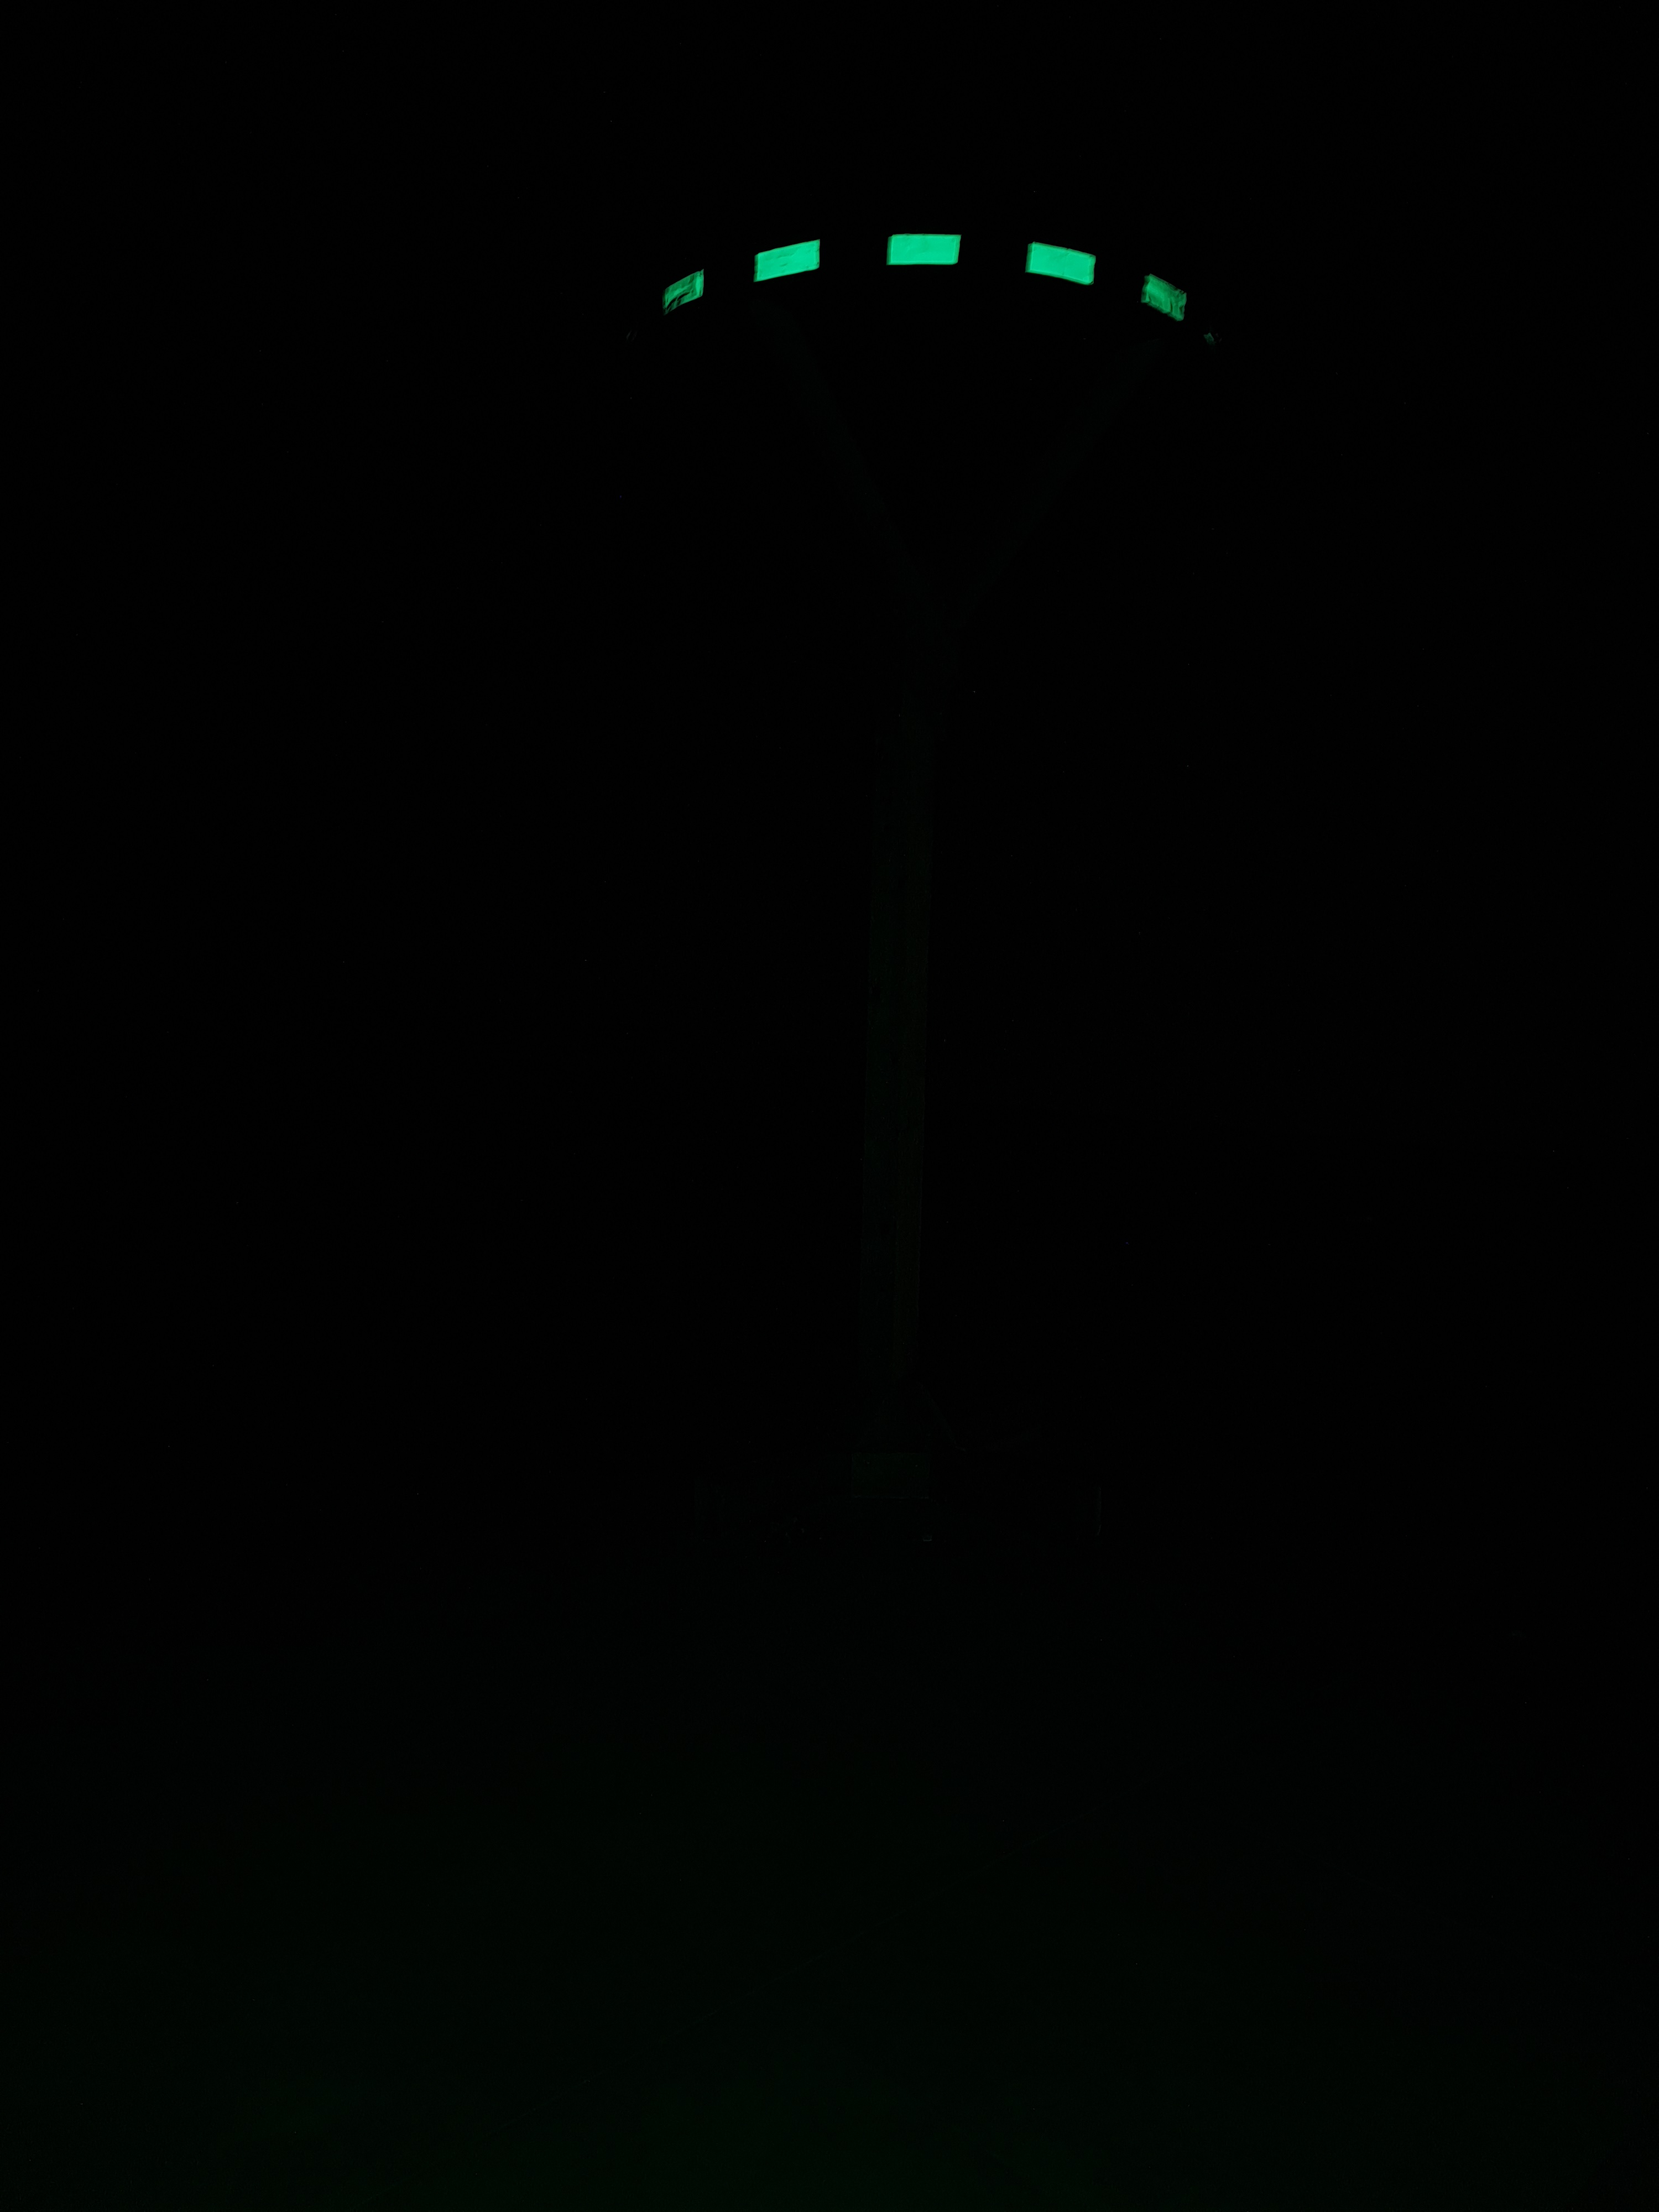hoop: (652, 223, 1188, 324)
